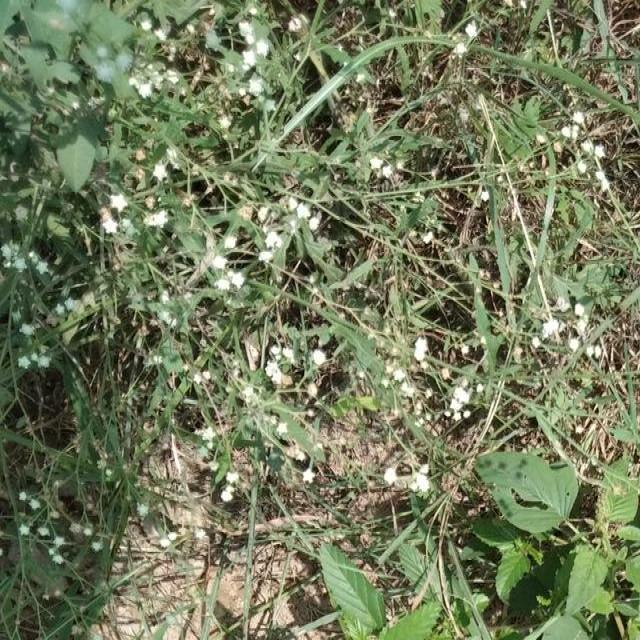weed: (45, 81, 339, 442), (380, 55, 612, 364), (489, 480, 640, 640), (314, 527, 438, 640)
